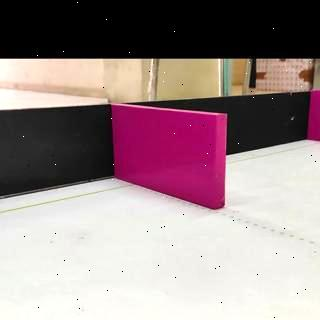xparking: (114, 118, 225, 196)
